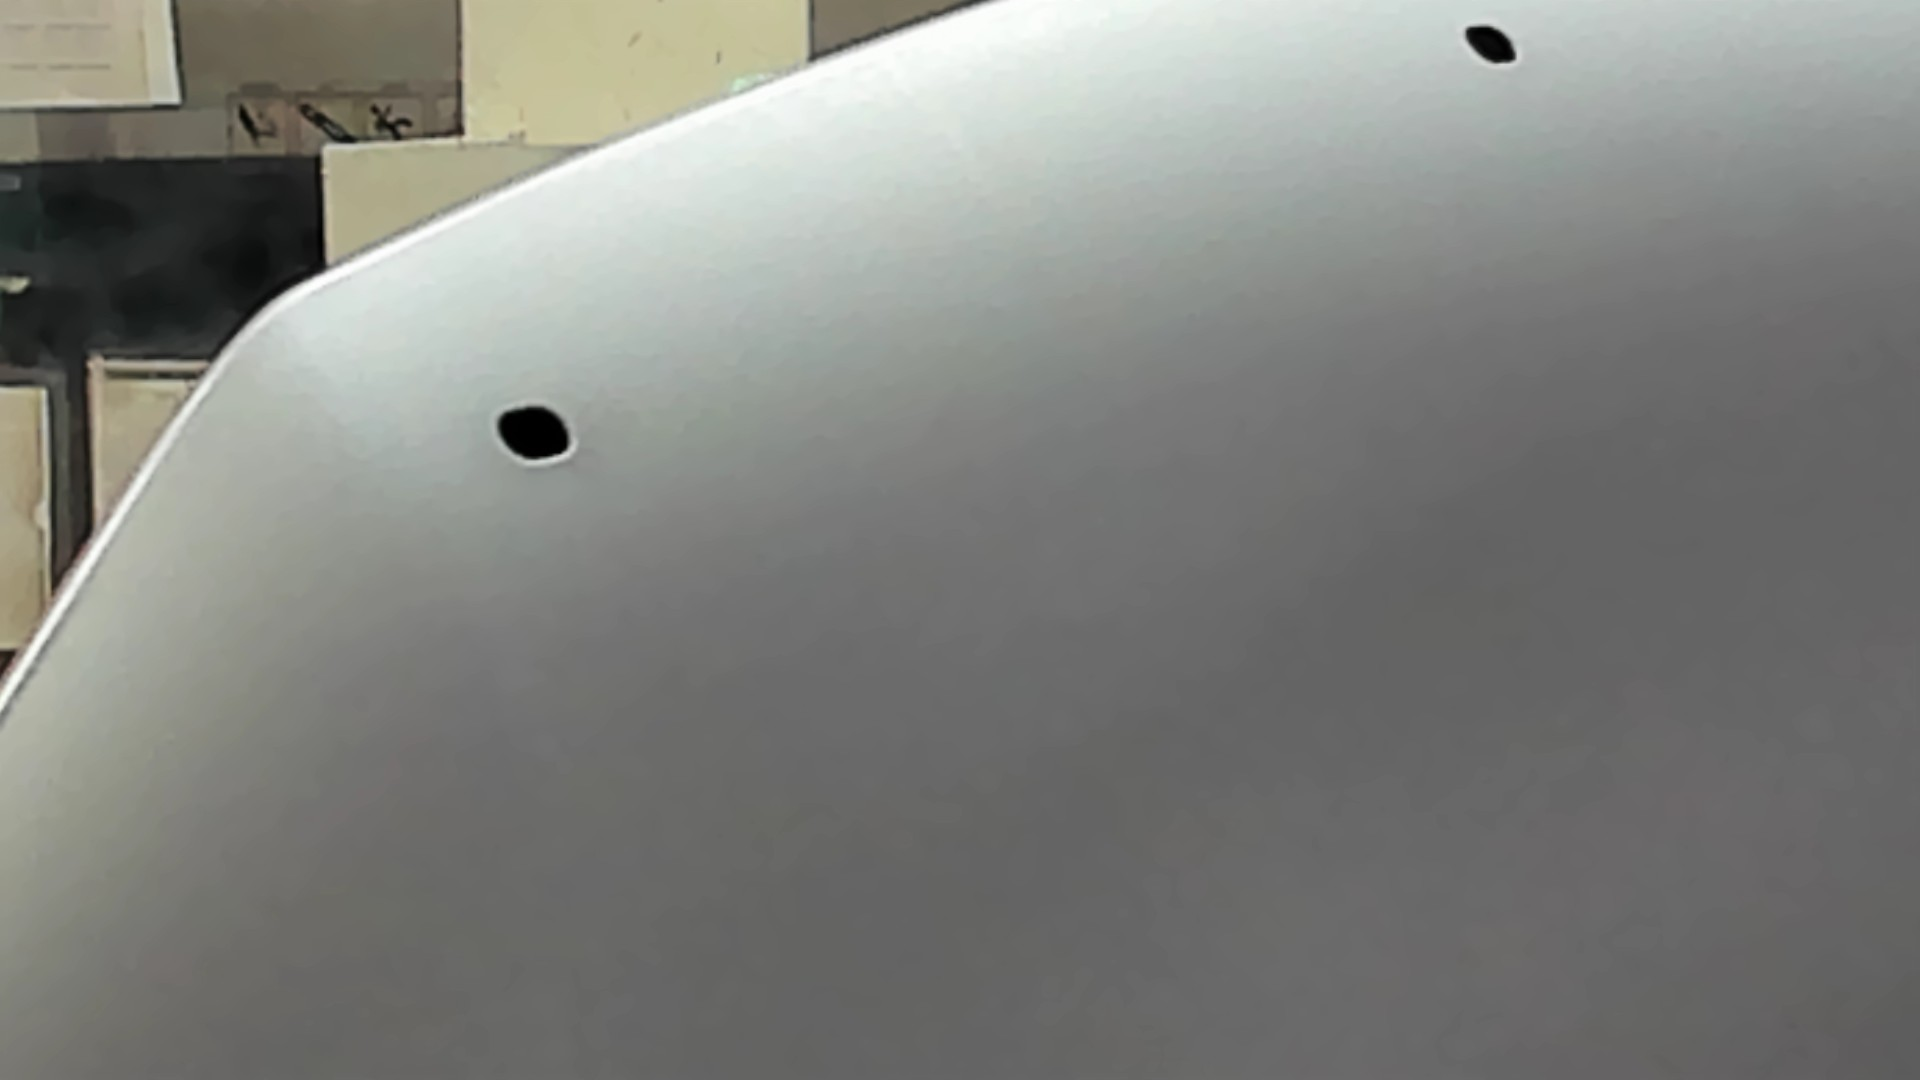chico: (477, 396, 585, 477), (1452, 15, 1530, 73)
